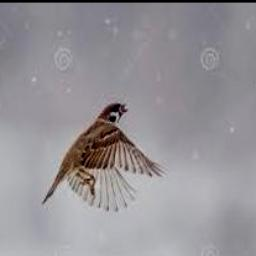Sparrow: (42, 102, 167, 212)
